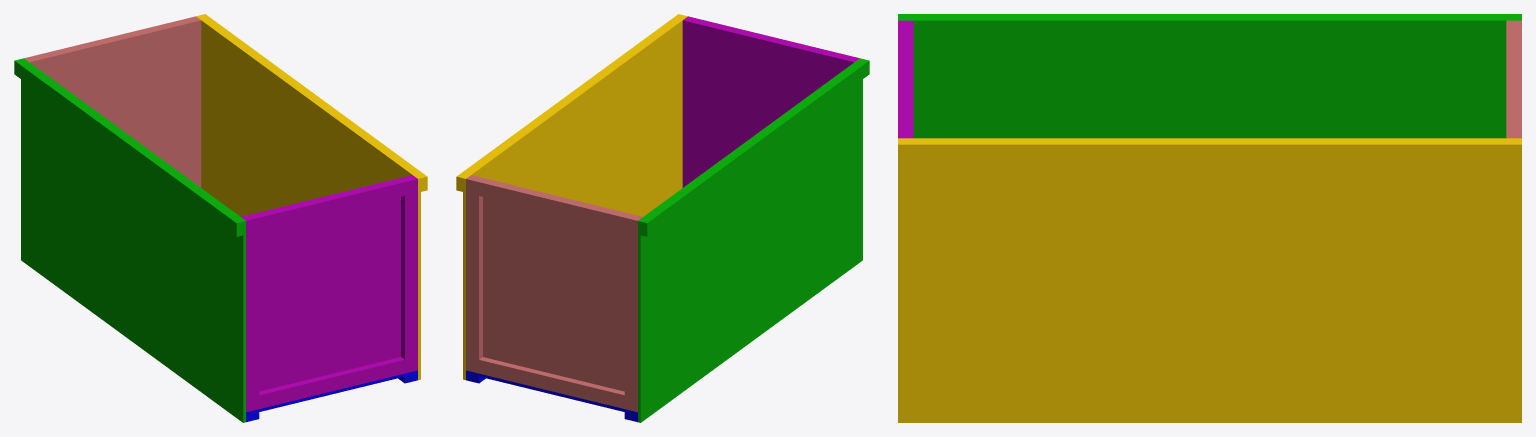
Rendered from result?data=false.glb.
3 renders of one model, left to right at view 1: azimuth 30°, elevation 25°; view 2: azimuth 150°, elevation 25°; view 3: azimuth 270°, elevation 25°, orthographic. The views are drawn at different scales.
Parts seen in each view (by area): view 1: 60db666b-1fba-4602-b0ad-cf1311f75fa3__Box_6, 04373d50-2f1e-4535-8f8c-e7b80444b394__Box_3, 5a2225f2-afd5-4cc1-bdd8-cbe2d9425d6c__undefined, 1614f32a-7270-4b71-8399-688947af6636__undefined, 1ef9d0e8-6cd8-4e76-94d4-ec5e5574ae29__Box_7, dd435d36-b90d-43d3-ba58-44533fed5135__undefined, fc1e72b4-8884-489d-9f7f-175f86d8b6c1__Box_4, 038e7cce-8cfb-4bbc-b43b-11264a8b183a__undefined, 8a5046f7-e792-4939-9354-7c2ee2ffdf23__Box_5, 8babeda1-d120-48ac-aeb7-136371ff7cdf__undefined, d632b692-84d6-46eb-9e22-f5999c9504ba__Box, 8ea02ef6-780e-4673-bf06-87020e40f492__undefined; view 2: 60db666b-1fba-4602-b0ad-cf1311f75fa3__Box_6, 1614f32a-7270-4b71-8399-688947af6636__undefined, 5a2225f2-afd5-4cc1-bdd8-cbe2d9425d6c__undefined, 04373d50-2f1e-4535-8f8c-e7b80444b394__Box_3, 1ef9d0e8-6cd8-4e76-94d4-ec5e5574ae29__Box_7, 5ac1a1be-714a-40e0-800b-89cdc64e8876__undefined, 52d00fa8-1891-4cb5-93d5-5754665b13b2__undefined, 8ea02ef6-780e-4673-bf06-87020e40f492__undefined, d4a43e09-0e26-45b8-864f-4d80c17bea0e__undefined, 8babeda1-d120-48ac-aeb7-136371ff7cdf__undefined, d632b692-84d6-46eb-9e22-f5999c9504ba__Box, 038e7cce-8cfb-4bbc-b43b-11264a8b183a__undefined; view 3: 5a2225f2-afd5-4cc1-bdd8-cbe2d9425d6c__undefined, 60db666b-1fba-4602-b0ad-cf1311f75fa3__Box_6, 8babeda1-d120-48ac-aeb7-136371ff7cdf__undefined, 1ef9d0e8-6cd8-4e76-94d4-ec5e5574ae29__Box_7, 038e7cce-8cfb-4bbc-b43b-11264a8b183a__undefined, 8ea02ef6-780e-4673-bf06-87020e40f492__undefined, 04373d50-2f1e-4535-8f8c-e7b80444b394__Box_3, 1614f32a-7270-4b71-8399-688947af6636__undefined.
Part boxes in pixels (x1,y1,x2,y2): 60db666b-1fba-4602-b0ad-cf1311f75fa3__Box_6: (21, 58, 245, 422); 04373d50-2f1e-4535-8f8c-e7b80444b394__Box_3: (241, 175, 413, 391); 5a2225f2-afd5-4cc1-bdd8-cbe2d9425d6c__undefined: (196, 15, 420, 380); 1614f32a-7270-4b71-8399-688947af6636__undefined: (28, 19, 201, 187); 1ef9d0e8-6cd8-4e76-94d4-ec5e5574ae29__Box_7: (14, 59, 243, 236); dd435d36-b90d-43d3-ba58-44533fed5135__undefined: (401, 176, 417, 373); fc1e72b4-8884-489d-9f7f-175f86d8b6c1__Box_4: (242, 215, 259, 412); 038e7cce-8cfb-4bbc-b43b-11264a8b183a__undefined: (256, 179, 404, 231); 8a5046f7-e792-4939-9354-7c2ee2ffdf23__Box_5: (259, 357, 404, 408); 8babeda1-d120-48ac-aeb7-136371ff7cdf__undefined: (199, 14, 427, 191); d632b692-84d6-46eb-9e22-f5999c9504ba__Box: (246, 370, 417, 415); 8ea02ef6-780e-4673-bf06-87020e40f492__undefined: (37, 19, 185, 57); 60db666b-1fba-4602-b0ad-cf1311f75fa3__Box_6: (638, 58, 862, 422); 1614f32a-7270-4b71-8399-688947af6636__undefined: (470, 175, 642, 391); 5a2225f2-afd5-4cc1-bdd8-cbe2d9425d6c__undefined: (463, 15, 687, 380); 04373d50-2f1e-4535-8f8c-e7b80444b394__Box_3: (682, 19, 855, 187); 1ef9d0e8-6cd8-4e76-94d4-ec5e5574ae29__Box_7: (640, 59, 869, 236); 5ac1a1be-714a-40e0-800b-89cdc64e8876__undefined: (466, 176, 482, 373); 52d00fa8-1891-4cb5-93d5-5754665b13b2__undefined: (624, 215, 641, 412); 8ea02ef6-780e-4673-bf06-87020e40f492__undefined: (479, 179, 627, 231); d4a43e09-0e26-45b8-864f-4d80c17bea0e__undefined: (479, 357, 624, 408); 8babeda1-d120-48ac-aeb7-136371ff7cdf__undefined: (456, 14, 684, 191); d632b692-84d6-46eb-9e22-f5999c9504ba__Box: (466, 370, 637, 415); 038e7cce-8cfb-4bbc-b43b-11264a8b183a__undefined: (698, 19, 846, 57); 5a2225f2-afd5-4cc1-bdd8-cbe2d9425d6c__undefined: (898, 138, 1521, 422); 60db666b-1fba-4602-b0ad-cf1311f75fa3__Box_6: (898, 18, 1521, 138); 8babeda1-d120-48ac-aeb7-136371ff7cdf__undefined: (898, 140, 1521, 164); 1ef9d0e8-6cd8-4e76-94d4-ec5e5574ae29__Box_7: (898, 14, 1521, 18); 038e7cce-8cfb-4bbc-b43b-11264a8b183a__undefined: (898, 29, 908, 129); 8ea02ef6-780e-4673-bf06-87020e40f492__undefined: (1511, 29, 1521, 129); 04373d50-2f1e-4535-8f8c-e7b80444b394__Box_3: (908, 20, 913, 138); 1614f32a-7270-4b71-8399-688947af6636__undefined: (1506, 20, 1511, 138).
Size of the model in its own units: 522 by 526 by 1052.
